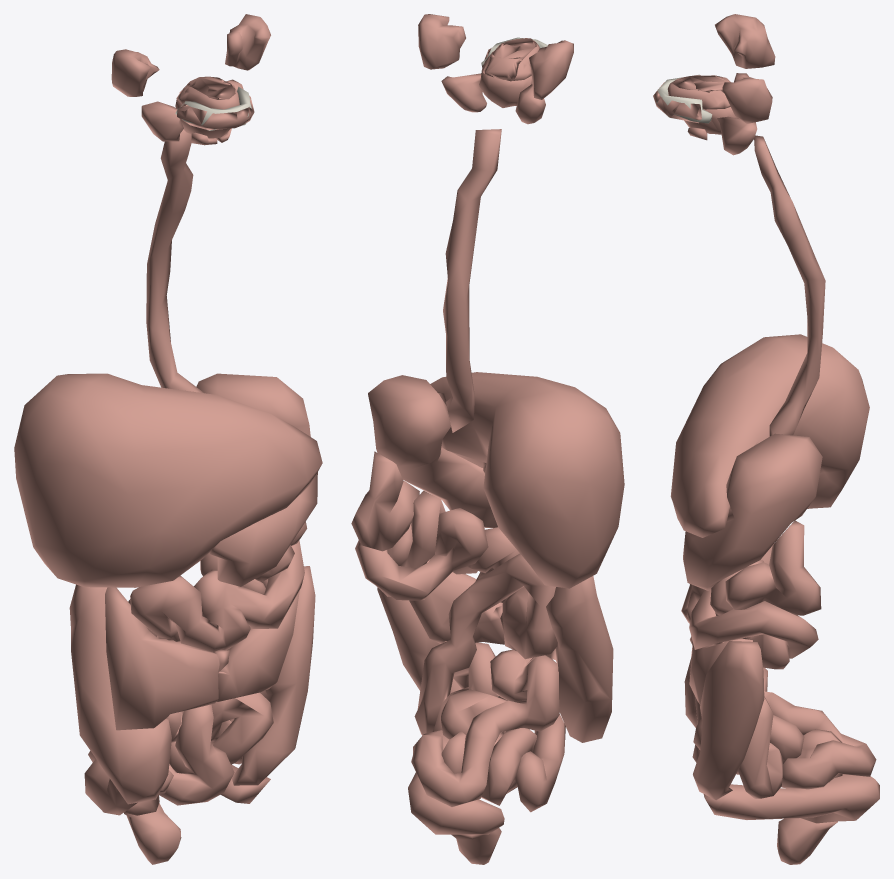
Rendered from icrp_adult_female.digestive.LOD3.glb.
3 views of the same model, side by side, from view 1: azimuth 30°, elevation 25°; view 2: azimuth 150°, elevation 25°; view 3: azimuth 270°, elevation 25° (orthographic). The views are drawn at different scales.
Parts seen in each view (by area): view 1: ICRP.ADULT.FEMALE.DIGESTIVE.LIVER, ICRP.ADULT.FEMALE.DIGESTIVE.SMALL_INTESTINE_WALL, ICRP.ADULT.FEMALE.DIGESTIVE.ASCENDING_COLON_WALL, ICRP.ADULT.FEMALE.DIGESTIVE.TRANSVERSE_COLON_WALL.R, ICRP.ADULT.FEMALE.DIGESTIVE.STOMACH_WALL, ICRP.ADULT.FEMALE.DIGESTIVE.OESOPHAGUS_WALL, ICRP.ADULT.FEMALE.DIGESTIVE.DESCENDING_COLON_WALL, ICRP.ADULT.FEMALE.DIGESTIVE.TRANSVERSE_COLON_WALL.L, ICRP.ADULT.FEMALE.DIGESTIVE.SALIVARY_GLANDS.R, ICRP.ADULT.FEMALE.DIGESTIVE.SALIVARY_GLANDS.L, ICRP.ADULT.FEMALE.DIGESTIVE.RECTUM_WALL, ICRP.ADULT.FEMALE.DIGESTIVE.ORAL_MUCOSA_LIP_AND_CHEEKS (+4 smaller); view 2: ICRP.ADULT.FEMALE.DIGESTIVE.SMALL_INTESTINE_WALL, ICRP.ADULT.FEMALE.DIGESTIVE.LIVER, ICRP.ADULT.FEMALE.DIGESTIVE.STOMACH_WALL, ICRP.ADULT.FEMALE.DIGESTIVE.ASCENDING_COLON_WALL, ICRP.ADULT.FEMALE.DIGESTIVE.OESOPHAGUS_WALL, ICRP.ADULT.FEMALE.DIGESTIVE.SALIVARY_GLANDS.L, ICRP.ADULT.FEMALE.DIGESTIVE.SIGMOID_COLON_WALL, ICRP.ADULT.FEMALE.DIGESTIVE.TRANSVERSE_COLON_WALL.L, ICRP.ADULT.FEMALE.DIGESTIVE.SALIVARY_GLANDS.R, ICRP.ADULT.FEMALE.DIGESTIVE.DESCENDING_COLON_WALL, ICRP.ADULT.FEMALE.DIGESTIVE.ORAL_MUCOSA_MOUTH_FLOOR, ICRP.ADULT.FEMALE.DIGESTIVE.TONGUE_LOWER (+1 smaller); view 3: ICRP.ADULT.FEMALE.DIGESTIVE.LIVER, ICRP.ADULT.FEMALE.DIGESTIVE.SMALL_INTESTINE_WALL, ICRP.ADULT.FEMALE.DIGESTIVE.STOMACH_WALL, ICRP.ADULT.FEMALE.DIGESTIVE.DESCENDING_COLON_WALL, ICRP.ADULT.FEMALE.DIGESTIVE.OESOPHAGUS_WALL, ICRP.ADULT.FEMALE.DIGESTIVE.SIGMOID_COLON_WALL, ICRP.ADULT.FEMALE.DIGESTIVE.SALIVARY_GLANDS.L, ICRP.ADULT.FEMALE.DIGESTIVE.SALIVARY_GLANDS.R, ICRP.ADULT.FEMALE.DIGESTIVE.RECTUM_WALL, ICRP.ADULT.FEMALE.DIGESTIVE.TRANSVERSE_COLON_WALL.L, ICRP.ADULT.FEMALE.DIGESTIVE.TONGUE_UPPER_FOOD, ICRP.ADULT.FEMALE.DIGESTIVE.ORAL_MUCOSA_LIP_AND_CHEEKS (+4 smaller).
Part boxes in pixels (x1,y1,x2,y2): ICRP.ADULT.FEMALE.DIGESTIVE.LIVER: (14,373,322,587); ICRP.ADULT.FEMALE.DIGESTIVE.SMALL_INTESTINE_WALL: (84,521,307,815); ICRP.ADULT.FEMALE.DIGESTIVE.ASCENDING_COLON_WALL: (69,584,171,804); ICRP.ADULT.FEMALE.DIGESTIVE.TRANSVERSE_COLON_WALL.R: (105,587,219,730); ICRP.ADULT.FEMALE.DIGESTIVE.STOMACH_WALL: (196,373,317,586); ICRP.ADULT.FEMALE.DIGESTIVE.OESOPHAGUS_WALL: (146,129,203,392); ICRP.ADULT.FEMALE.DIGESTIVE.DESCENDING_COLON_WALL: (231,566,315,785); ICRP.ADULT.FEMALE.DIGESTIVE.TRANSVERSE_COLON_WALL.L: (213,591,299,701); ICRP.ADULT.FEMALE.DIGESTIVE.SALIVARY_GLANDS.R: (111,49,217,145); ICRP.ADULT.FEMALE.DIGESTIVE.SALIVARY_GLANDS.L: (216,14,270,142); ICRP.ADULT.FEMALE.DIGESTIVE.RECTUM_WALL: (124,803,181,864); ICRP.ADULT.FEMALE.DIGESTIVE.ORAL_MUCOSA_LIP_AND_CHEEKS: (177,96,254,130); ICRP.ADULT.FEMALE.DIGESTIVE.SMALL_INTESTINE_WALL: (351,451,565,812); ICRP.ADULT.FEMALE.DIGESTIVE.LIVER: (430,372,624,588); ICRP.ADULT.FEMALE.DIGESTIVE.STOMACH_WALL: (368,375,497,527); ICRP.ADULT.FEMALE.DIGESTIVE.ASCENDING_COLON_WALL: (546,576,613,742); ICRP.ADULT.FEMALE.DIGESTIVE.OESOPHAGUS_WALL: (443,129,501,432); ICRP.ADULT.FEMALE.DIGESTIVE.SALIVARY_GLANDS.L: (418,14,486,112); ICRP.ADULT.FEMALE.DIGESTIVE.SIGMOID_COLON_WALL: (408,772,504,834); ICRP.ADULT.FEMALE.DIGESTIVE.TRANSVERSE_COLON_WALL.L: (409,559,504,644); ICRP.ADULT.FEMALE.DIGESTIVE.SALIVARY_GLANDS.R: (515,40,573,124); ICRP.ADULT.FEMALE.DIGESTIVE.DESCENDING_COLON_WALL: (377,587,461,693); ICRP.ADULT.FEMALE.DIGESTIVE.ORAL_MUCOSA_MOUTH_FLOOR: (483,38,536,80); ICRP.ADULT.FEMALE.DIGESTIVE.TONGUE_LOWER: (479,68,532,107); ICRP.ADULT.FEMALE.DIGESTIVE.LIVER: (670,334,869,537); ICRP.ADULT.FEMALE.DIGESTIVE.SMALL_INTESTINE_WALL: (681,520,876,798); ICRP.ADULT.FEMALE.DIGESTIVE.STOMACH_WALL: (683,433,822,590); ICRP.ADULT.FEMALE.DIGESTIVE.DESCENDING_COLON_WALL: (693,641,764,800); ICRP.ADULT.FEMALE.DIGESTIVE.OESOPHAGUS_WALL: (754,135,825,436); ICRP.ADULT.FEMALE.DIGESTIVE.SIGMOID_COLON_WALL: (703,774,879,823); ICRP.ADULT.FEMALE.DIGESTIVE.SALIVARY_GLANDS.L: (687,73,772,155); ICRP.ADULT.FEMALE.DIGESTIVE.SALIVARY_GLANDS.R: (715,14,775,68); ICRP.ADULT.FEMALE.DIGESTIVE.RECTUM_WALL: (777,818,837,864); ICRP.ADULT.FEMALE.DIGESTIVE.TRANSVERSE_COLON_WALL.L: (689,636,752,704); ICRP.ADULT.FEMALE.DIGESTIVE.TONGUE_UPPER_FOOD: (667,75,730,109); ICRP.ADULT.FEMALE.DIGESTIVE.ORAL_MUCOSA_LIP_AND_CHEEKS: (653,82,701,123).
Size of the model in its own units: 0.2314 by 0.7088 by 0.1779.
